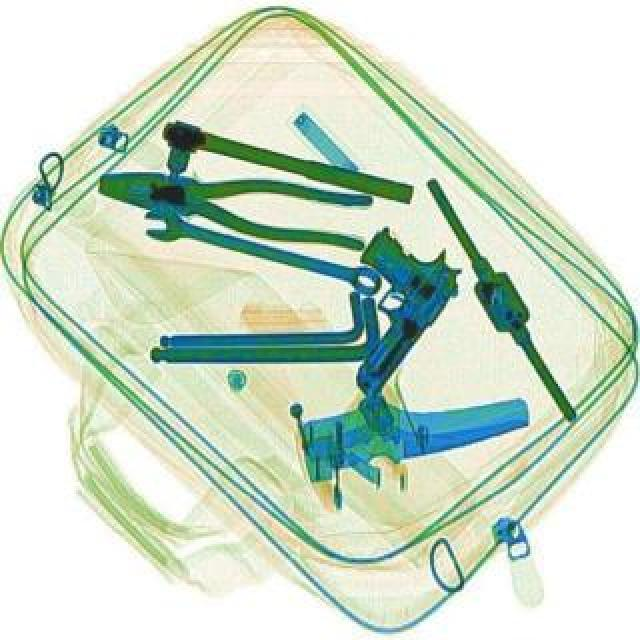gun: (290, 220, 476, 406)
scissors: (136, 206, 384, 302)
wrench: (90, 158, 372, 254)
